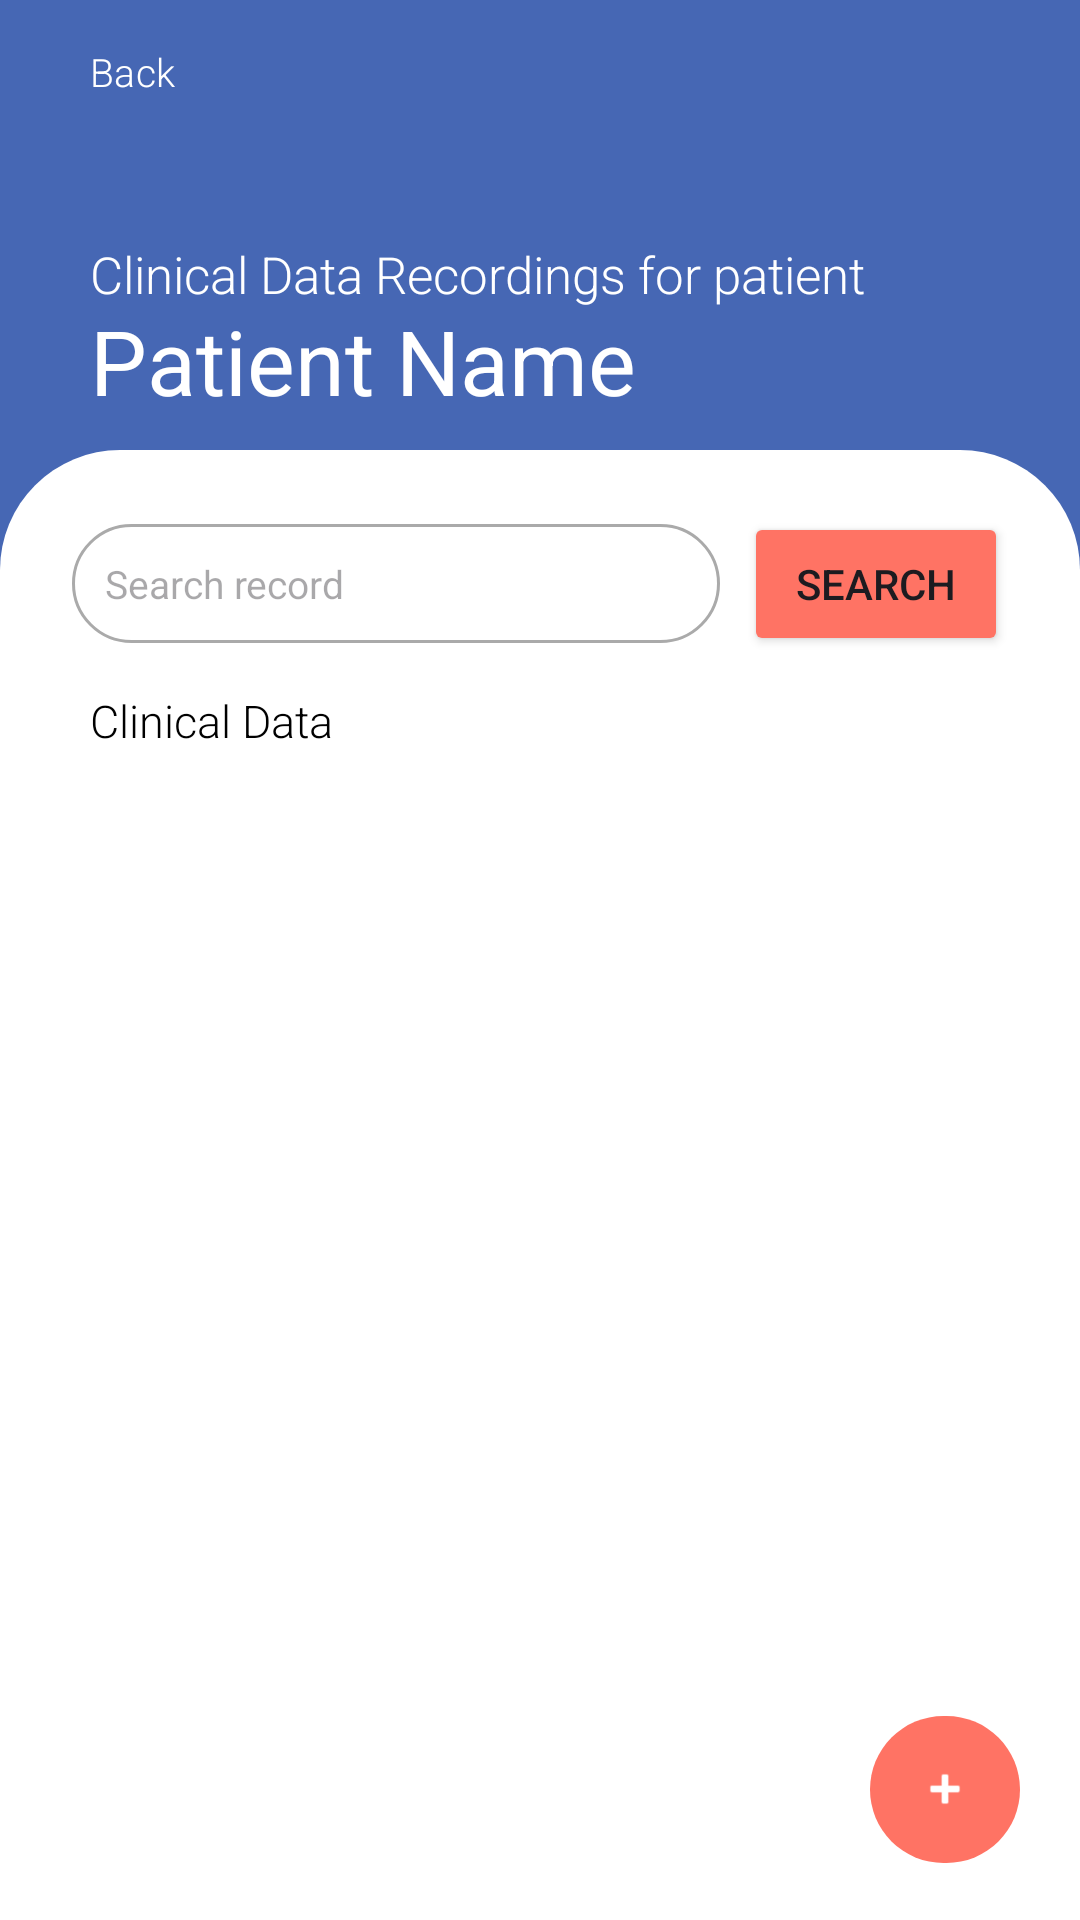

Named icons in this screenshot (1080*1920) and their bounding boxes, (x1, y1, x2, y2):
add: (870, 1716, 1020, 1863)
